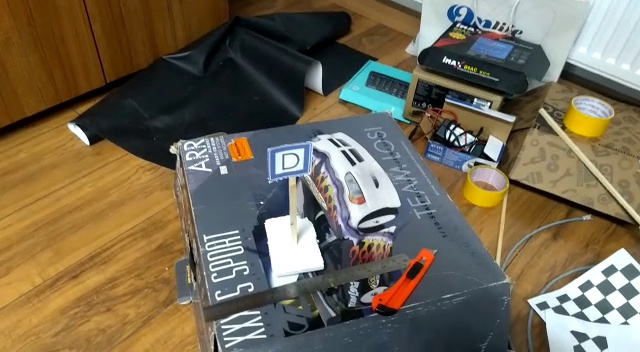durak: (265, 144, 318, 181)
